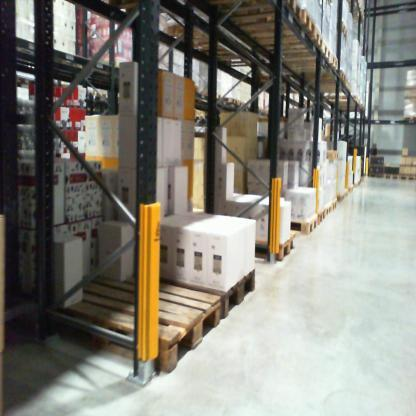pallets: (50, 258, 272, 386), (281, 1, 353, 86), (285, 197, 341, 239), (264, 232, 296, 265), (364, 169, 416, 189)
